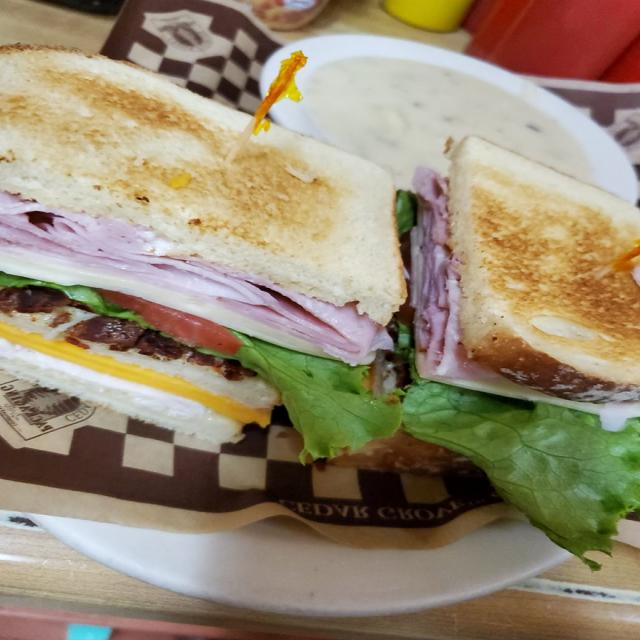Sandwich: (1, 68, 636, 502)
